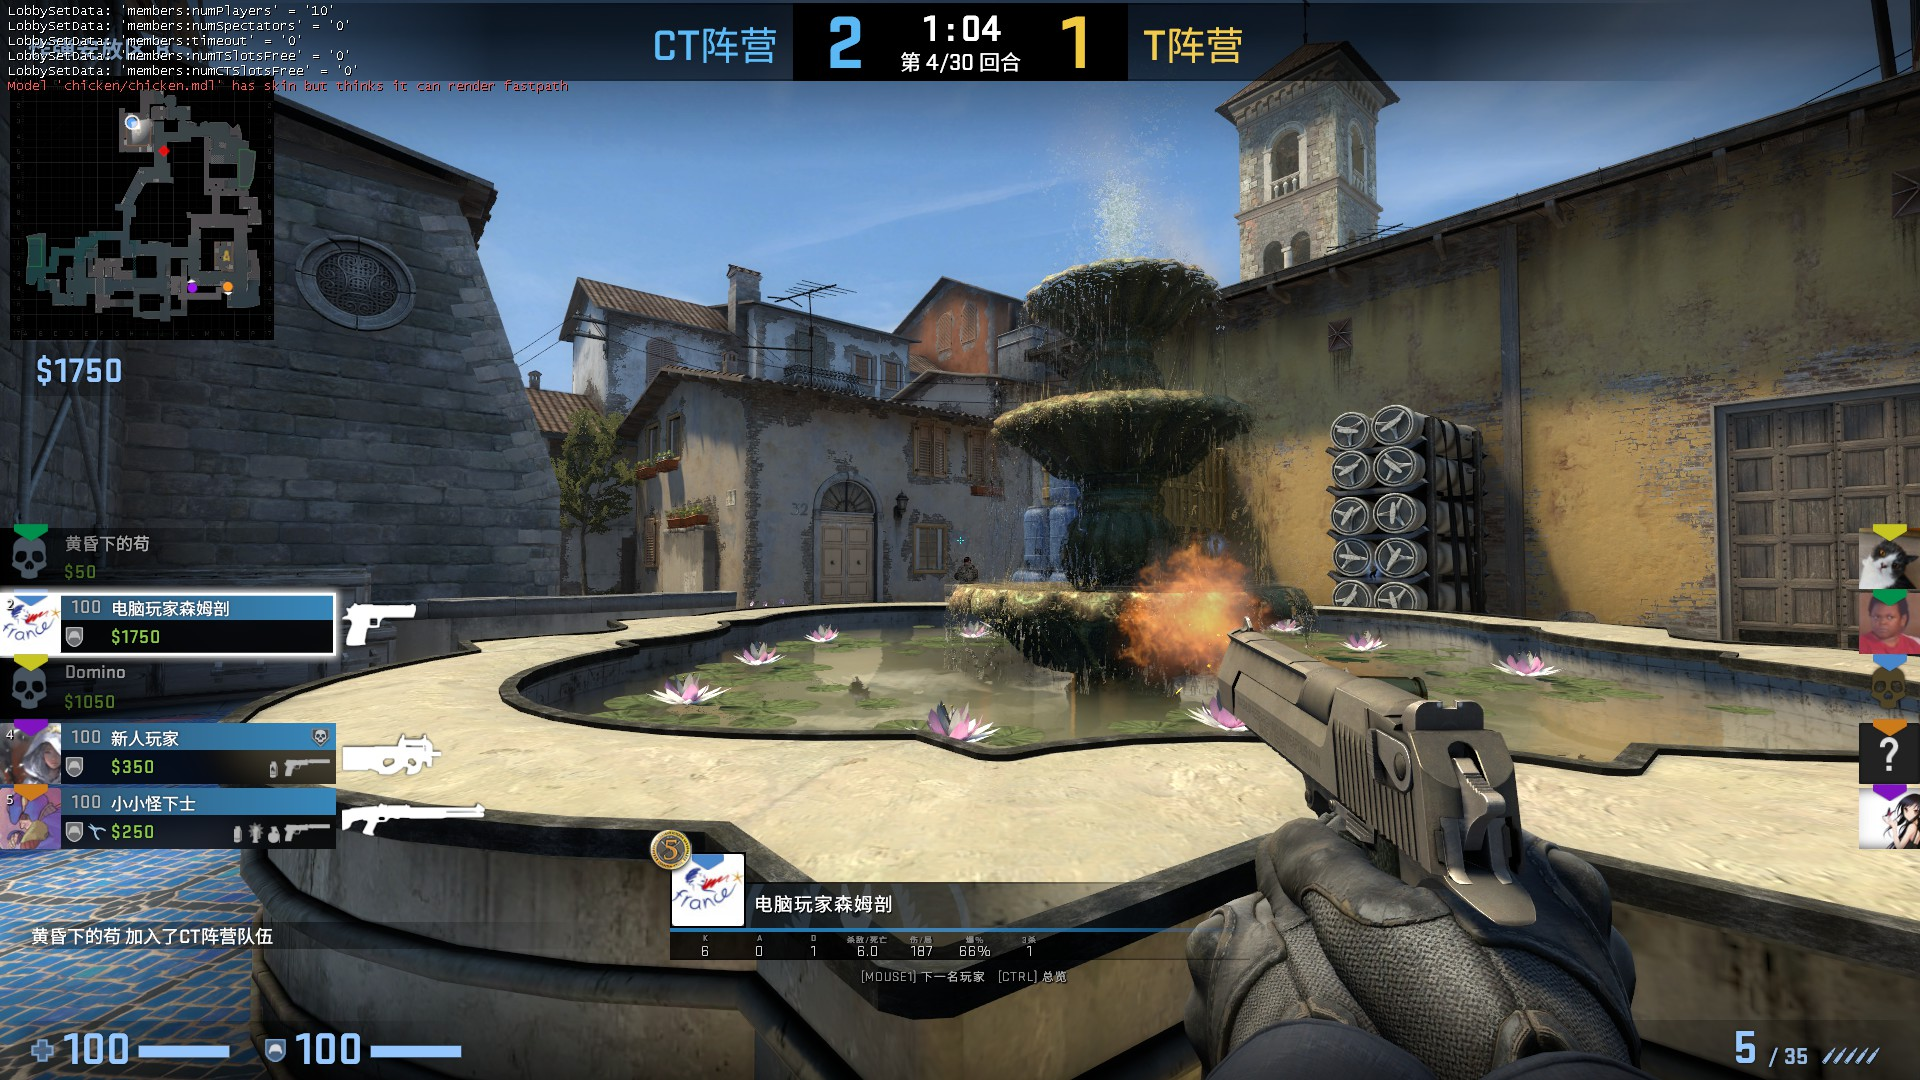head: (959, 554, 971, 566)
